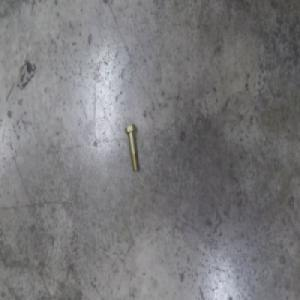Bolt: (124, 122, 138, 171)
